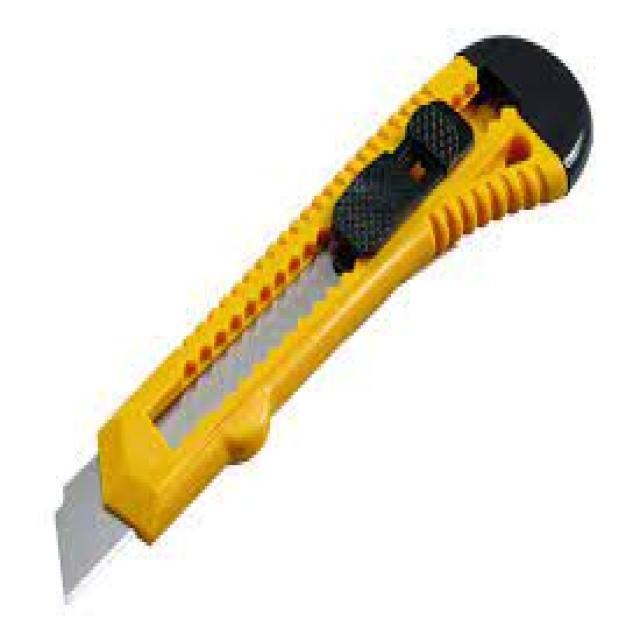cutter: (51, 22, 598, 604)
